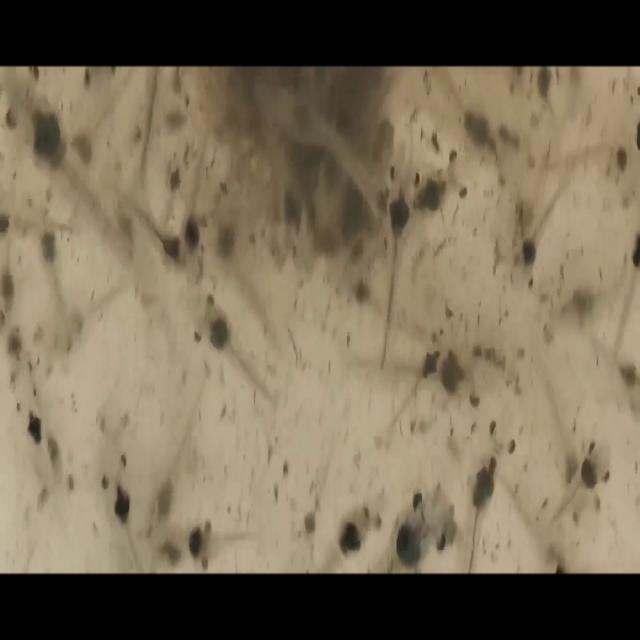shrimp3: (3, 68, 135, 270), (179, 284, 284, 416), (374, 139, 424, 387), (458, 409, 523, 573), (539, 433, 615, 535)
